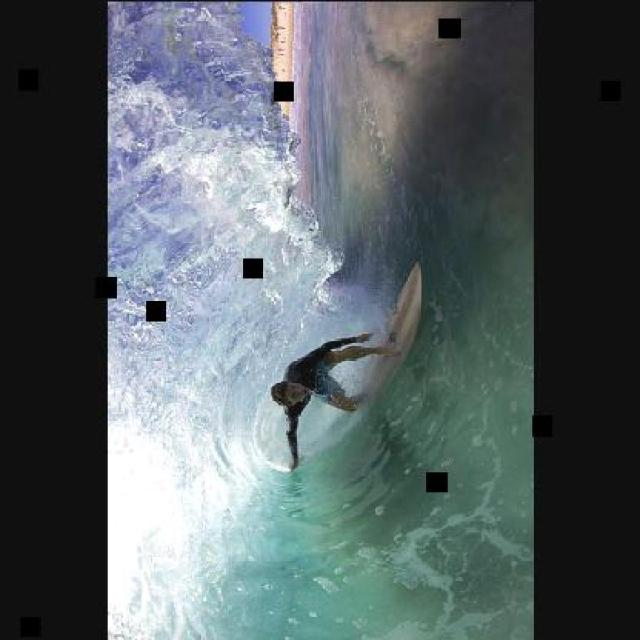unauthorized: (269, 329, 400, 471)
